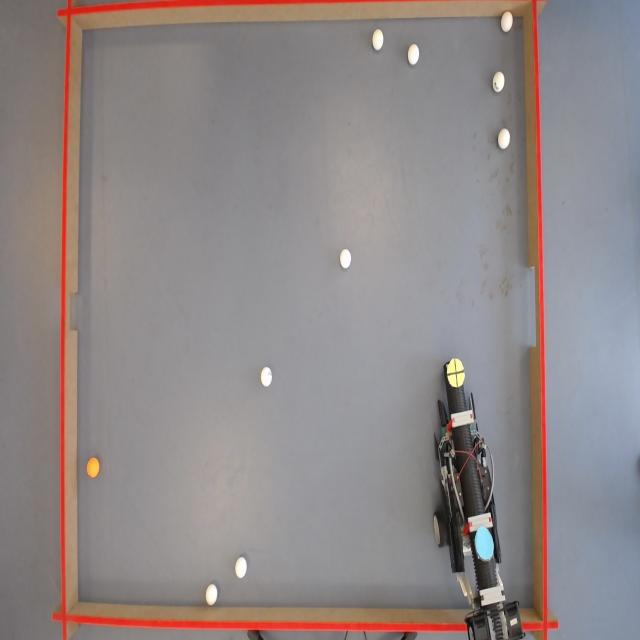orange: (88, 458, 103, 478)
robot: (433, 350, 522, 640)
robot-front: (447, 356, 465, 388)
robot-rear: (476, 526, 497, 562)
white: (206, 585, 220, 608), (408, 45, 422, 67), (497, 129, 511, 151), (373, 29, 386, 52), (500, 10, 513, 32), (235, 557, 248, 579), (493, 71, 506, 93), (262, 365, 274, 386), (340, 248, 352, 269)
